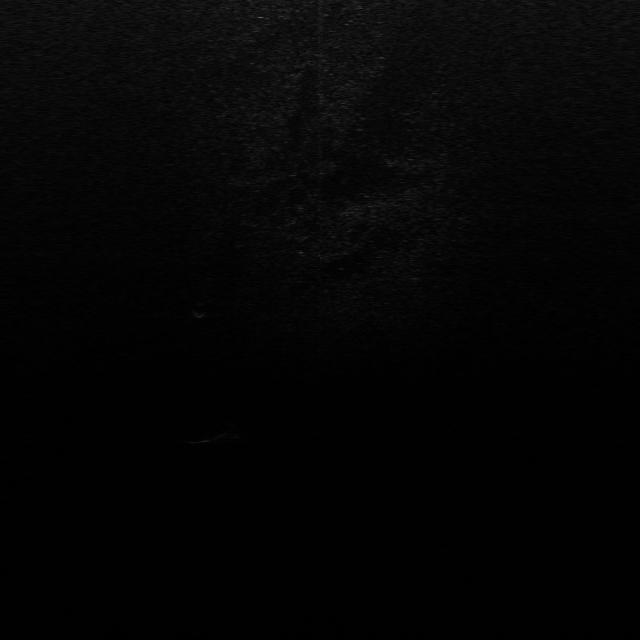ball: (210, 426, 246, 448)
circle cage: (189, 301, 213, 319)
